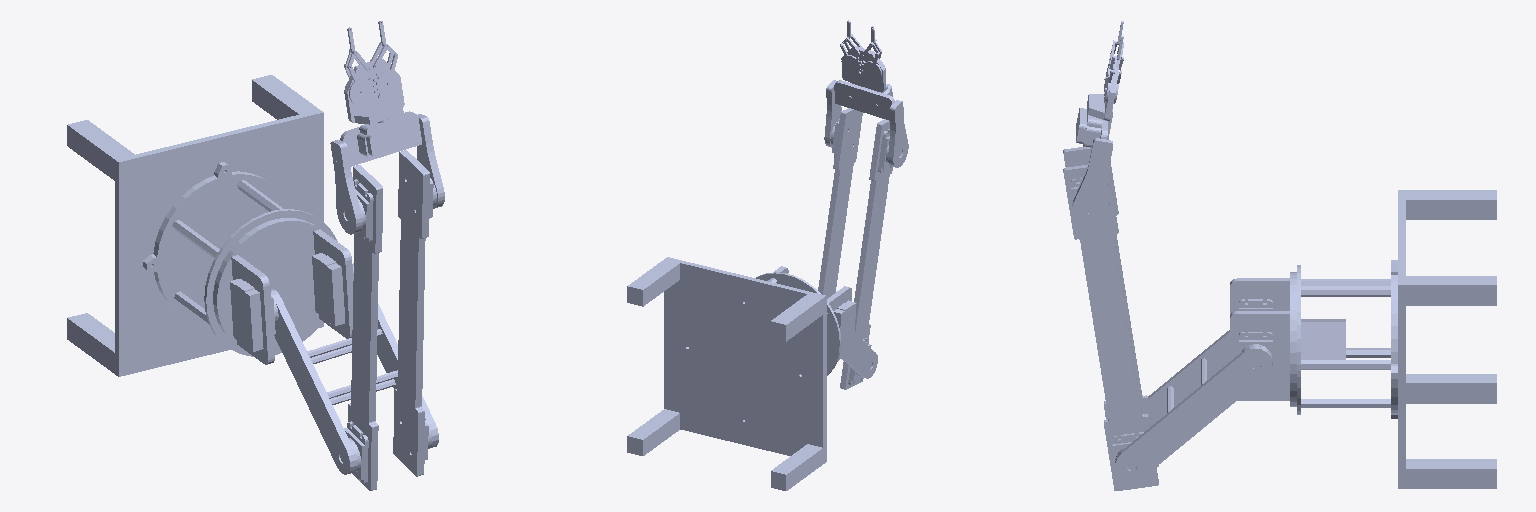
The robot description file, URDF, robot "RobotArmUrdfMeshesProp":
<?xml version="1.0" encoding="utf-8"?>
<!-- This URDF was automatically created by SolidWorks to URDF Exporter! Originally created by [author] ([email redacted]) 
     Commit Version: 1.5.1-0-g916b5db  Build Version: 1.5.7152.31018
     For more information, please see http://wiki.ros.org/sw_urdf_exporter -->
<robot
  name="RobotArmUrdfMeshesProp">
  <link
    name="base_link">
    <inertial>
      <origin
        xyz="0.0130606856888135 -0.133927940020527 0.104796725192401"
        rpy="0 0 0" />
      <mass
        value="1.3348146018366" />
      <inertia
        ixx="0.00731717119287839"
        ixy="-7.11045805568136E-21"
        ixz="-5.57214543565611E-19"
        iyy="0.0135564188757262"
        iyz="-2.94900207348336E-19"
        izz="0.00731717119287839" />
    </inertial>
    <visual>
      <origin
        xyz="0 0 0"
        rpy="0 0 0" />
      <geometry>
        <mesh
          filename="package://RobotArmUrdfMeshesProp/meshes/base_link.STL" />
      </geometry>
      <material
        name="">
        <color
          rgba="0.792156862745098 0.819607843137255 0.933333333333333 1" />
      </material>
    </visual>
    <collision>
      <origin
        xyz="0 0 0"
        rpy="0 0 0" />
      <geometry>
        <mesh
          filename="package://RobotArmUrdfMeshesProp/meshes/base_link.STL" />
      </geometry>
    </collision>
  </link>
  <link
    name="rotating base">
    <inertial>
      <origin
        xyz="-0.00118830586385247 -0.00011756106213627 0.107080284193852"
        rpy="0 0 0" />
      <mass
        value="1.39759764473395" />
      <inertia
        ixx="0.00478115680882623"
        ixy="-0.000102672286793589"
        ixz="3.62391329450548E-05"
        iyy="0.00570738237120315"
        iyz="2.29069919150106E-06"
        izz="0.00576377931534605" />
    </inertial>
    <visual>
      <origin
        xyz="0 0 0"
        rpy="0 0 0" />
      <geometry>
        <mesh
          filename="package://RobotArmUrdfMeshesProp/meshes/rotating base.STL" />
      </geometry>
      <material
        name="">
        <color
          rgba="0.792156862745098 0.819607843137255 0.933333333333333 1" />
      </material>
    </visual>
    <collision>
      <origin
        xyz="0 0 0"
        rpy="0 0 0" />
      <geometry>
        <mesh
          filename="package://RobotArmUrdfMeshesProp/meshes/rotating base.STL" />
      </geometry>
    </collision>
  </link>
  <joint
    name="rotating base"
    type="fixed">
    <origin
      xyz="0.0130606856888136 -0.160303043320073 0.104796725192401"
      rpy="1.5707963267949 0 0" />
    <parent
      link="base_link" />
    <child
      link="rotating base" />
    <axis
      xyz="0 0 0" />
  </joint>
  <link
    name="lower arm">
    <inertial>
      <origin
        xyz="-0.128633379591227 -6.66133814775094E-16 -0.0583747798123898"
        rpy="0 0 0" />
      <mass
        value="0.325078566457199" />
      <inertia
        ixx="0.000884467798485973"
        ixy="-4.28673439826683E-06"
        ixz="-7.53664330905173E-20"
        iyy="0.00203100229868317"
        iyz="-4.46025752126274E-19"
        izz="0.00126432994950172" />
    </inertial>
    <visual>
      <origin
        xyz="0 0 0"
        rpy="0 0 0" />
      <geometry>
        <mesh
          filename="package://RobotArmUrdfMeshesProp/meshes/lower arm.STL" />
      </geometry>
      <material
        name="">
        <color
          rgba="0.792156862745098 0.819607843137255 0.933333333333333 1" />
      </material>
    </visual>
    <collision>
      <origin
        xyz="0 0 0"
        rpy="0 0 0" />
      <geometry>
        <mesh
          filename="package://RobotArmUrdfMeshesProp/meshes/lower arm.STL" />
      </geometry>
    </collision>
  </link>
  <joint
    name="lower arm"
    type="fixed">
    <origin
      xyz="0.0789039407101542 0.0351054747045865 0.156246736186644"
      rpy="1.5707963267949 0.848171739621261 1.63758786604713" />
    <parent
      link="rotating base" />
    <child
      link="lower arm" />
    <axis
      xyz="0 0 0" />
  </joint>
  <link
    name="upper arm ">
    <inertial>
      <origin
        xyz="-0.0550000000000022 0.162571615295359 -0.0390699999999894"
        rpy="0 0 0" />
      <mass
        value="0.553932772437962" />
      <inertia
        ixx="0.00950068407154474"
        ixy="1.04469655582556E-16"
        ixz="4.74013502241347E-20"
        iyy="0.000128887101671353"
        iyz="1.29334379984524E-18"
        izz="0.00961971522402867" />
    </inertial>
    <visual>
      <origin
        xyz="0 0 0"
        rpy="0 0 0" />
      <geometry>
        <mesh
          filename="package://RobotArmUrdfMeshesProp/meshes/upper arm .STL" />
      </geometry>
      <material
        name="">
        <color
          rgba="0.792156862745098 0.819607843137255 0.933333333333333 1" />
      </material>
    </visual>
    <collision>
      <origin
        xyz="0 0 0"
        rpy="0 0 0" />
      <geometry>
        <mesh
          filename="package://RobotArmUrdfMeshesProp/meshes/upper arm .STL" />
      </geometry>
    </collision>
  </link>
  <joint
    name="upper arm"
    type="fixed">
    <origin
      xyz="-0.311174431281137 0.029881798738756 -0.0941399999999955"
      rpy="-3.14159265358979 0 2.56722332066206" />
    <parent
      link="lower arm" />
    <child
      link="upper arm " />
    <axis
      xyz="0 0 0" />
  </joint>
  <link
    name="upper wrist">
    <inertial>
      <origin
        xyz="-0.0599002775619729 0.0145250651582456 -0.039069999999978"
        rpy="0 0 0" />
      <mass
        value="0.157249507163386" />
      <inertia
        ixx="0.000103336543586532"
        ixy="2.38357966733588E-05"
        ixz="1.28806873635407E-20"
        iyy="3.21046938039661E-05"
        iyz="3.81806996908101E-20"
        izz="0.000132196675957652" />
    </inertial>
    <visual>
      <origin
        xyz="0 0 0"
        rpy="0 0 0" />
      <geometry>
        <mesh
          filename="package://RobotArmUrdfMeshesProp/meshes/upper wrist.STL" />
      </geometry>
      <material
        name="">
        <color
          rgba="0.792156862745098 0.819607843137255 0.933333333333333 1" />
      </material>
    </visual>
    <collision>
      <origin
        xyz="0 0 0"
        rpy="0 0 0" />
      <geometry>
        <mesh
          filename="package://RobotArmUrdfMeshesProp/meshes/upper wrist.STL" />
      </geometry>
    </collision>
  </link>
  <joint
    name="upper wrist"
    type="fixed">
    <origin
      xyz="0 0.371200669102145 0"
      rpy="0 0 0" />
    <parent
      link="upper arm " />
    <child
      link="upper wrist" />
    <axis
      xyz="0 0 0" />
  </joint>
  <link
    name="middle wrist">
    <inertial>
      <origin
        xyz="0.0650700000000001 -0.0896700233335407 -0.012715703160485"
        rpy="0 0 0" />
      <mass
        value="0.113820080301924" />
      <inertia
        ixx="1.80752904389812E-05"
        ixy="1.09142836042383E-18"
        ixz="-3.91325154184438E-19"
        iyy="7.58156761069057E-05"
        iyz="-2.03287907341032E-20"
        izz="8.93102953285944E-05" />
    </inertial>
    <visual>
      <origin
        xyz="0 0 0"
        rpy="0 0 0" />
      <geometry>
        <mesh
          filename="package://RobotArmUrdfMeshesProp/meshes/middle wrist.STL" />
      </geometry>
      <material
        name="">
        <color
          rgba="0.792156862745098 0.819607843137255 0.933333333333333 1" />
      </material>
    </visual>
    <collision>
      <origin
        xyz="0 0 0"
        rpy="0 0 0" />
      <geometry>
        <mesh
          filename="package://RobotArmUrdfMeshesProp/meshes/middle wrist.STL" />
      </geometry>
    </collision>
  </link>
  <joint
    name="middle wrist"
    type="fixed">
    <origin
      xyz="-0.0322592690294007 0.00767197203615905 -0.104139999999975"
      rpy="-1.36065826757667 -1.57079631189374 -1.45573033079862" />
    <parent
      link="upper wrist" />
    <child
      link="middle wrist" />
    <axis
      xyz="0 0 0" />
  </joint>
  <link
    name="lower wrist">
    <inertial>
      <origin
        xyz="1.34718625144359E-13 0.0112725620294538 0.0238188793866976"
        rpy="0 0 0" />
      <mass
        value="0.0521786415366043" />
      <inertia
        ixx="2.40049687608685E-05"
        ixy="-3.92310191663526E-17"
        ixz="5.54238555524927E-18"
        iyy="4.35494931309565E-05"
        iyz="-3.42527115552257E-06"
        izz="2.46186676394022E-05" />
    </inertial>
    <visual>
      <origin
        xyz="0 0 0"
        rpy="0 0 0" />
      <geometry>
        <mesh
          filename="package://RobotArmUrdfMeshesProp/meshes/lower wrist.STL" />
      </geometry>
      <material
        name="">
        <color
          rgba="0.792156862745098 0.819607843137255 0.933333333333333 1" />
      </material>
    </visual>
    <collision>
      <origin
        xyz="0 0 0"
        rpy="0 0 0" />
      <geometry>
        <mesh
          filename="package://RobotArmUrdfMeshesProp/meshes/lower wrist.STL" />
      </geometry>
    </collision>
  </link>
  <joint
    name="lower wrist"
    type="continuous">
    <origin
      xyz="0.0650700000000014 -0.119432096019538 -0.00999999999999968"
      rpy="-1.5707963267949 0.0109990775981734 3.14159265358977" />
    <parent
      link="middle wrist" />
    <child
      link="lower wrist" />
    <axis
      xyz="0 0 1" />
  </joint>
  <link
    name="end effector">
    <inertial>
      <origin
        xyz="0.022010198682042 -0.00839778572424027 -0.0251828532394741"
        rpy="0 0 0" />
      <mass
        value="0.0176722137375322" />
      <inertia
        ixx="2.0810550684685E-06"
        ixy="7.84909138683308E-08"
        ixz="-2.74615360689235E-18"
        iyy="1.4270184377412E-06"
        iyz="-7.14684049245816E-19"
        izz="3.48089604018252E-06" />
    </inertial>
    <visual>
      <origin
        xyz="0 0 0"
        rpy="0 0 0" />
      <geometry>
        <mesh
          filename="package://RobotArmUrdfMeshesProp/meshes/end effector.STL" />
      </geometry>
      <material
        name="">
        <color
          rgba="0.792156862745098 0.819607843137255 0.933333333333333 1" />
      </material>
    </visual>
    <collision>
      <origin
        xyz="0 0 0"
        rpy="0 0 0" />
      <geometry>
        <mesh
          filename="package://RobotArmUrdfMeshesProp/meshes/end effector.STL" />
      </geometry>
    </collision>
  </link>
  <joint
    name="end effector"
    type="continuous">
    <origin
      xyz="0.020000000000215 -0.010878906011115 0.0353739216947843"
      rpy="-1.5707963267949 -0.207904224454029 3.14159265358979" />
    <parent
      link="lower wrist" />
    <child
      link="end effector" />
    <axis
      xyz="0 0 1" />
  </joint>
</robot>

--- What the picture shows (computed from the rendered views, not written in the file) ---
The picture shows the robot from 3 angles, left to right: view 1: azimuth 30°, elevation 25°; view 2: azimuth 150°, elevation 25°; view 3: azimuth 270°, elevation 25°; orthographic projection.
Robot: RobotArmUrdfMeshesProp — 8 links, 7 joints (2 continuous, 5 fixed); root link base_link; default pose: every joint at zero.
Links seen in each view (by area): view 1: base_link, rotating base, upper arm, lower arm, upper wrist, middle wrist, end effector, lower wrist; view 2: base_link, upper arm, rotating base, upper wrist, middle wrist, end effector, lower arm, lower wrist; view 3: base_link, rotating base, upper arm, lower arm, upper wrist, middle wrist, lower wrist, end effector.
Boxes of the visible links, box(x1,y1,x2,y2) form: base_link: box(67, 75, 323, 376); rotating base: box(143, 162, 352, 364); upper arm: box(340, 150, 431, 490); lower arm: box(270, 263, 438, 474); upper wrist: box(330, 114, 444, 241); middle wrist: box(335, 108, 421, 166); end effector: box(344, 21, 400, 105); lower wrist: box(344, 59, 404, 124); base_link: box(627, 257, 826, 490); upper arm: box(818, 108, 892, 389); rotating base: box(756, 266, 856, 375); upper wrist: box(824, 80, 908, 172); middle wrist: box(834, 80, 900, 120); end effector: box(840, 20, 885, 79); lower arm: box(842, 334, 877, 378); lower wrist: box(841, 46, 885, 91); base_link: box(1398, 190, 1496, 488); rotating base: box(1230, 260, 1397, 418); upper arm: box(1063, 147, 1158, 490); lower arm: box(1115, 299, 1272, 481); upper wrist: box(1071, 109, 1112, 229); middle wrist: box(1076, 100, 1107, 160); lower wrist: box(1087, 60, 1118, 120); end effector: box(1104, 21, 1123, 103).
Bounding box of the posed robot: 0.3 × 0.5776 × 0.6503 m (x, y, z).
Meshes: 8 distinct files referenced, 8 mesh visuals loaded (8 binary STL).